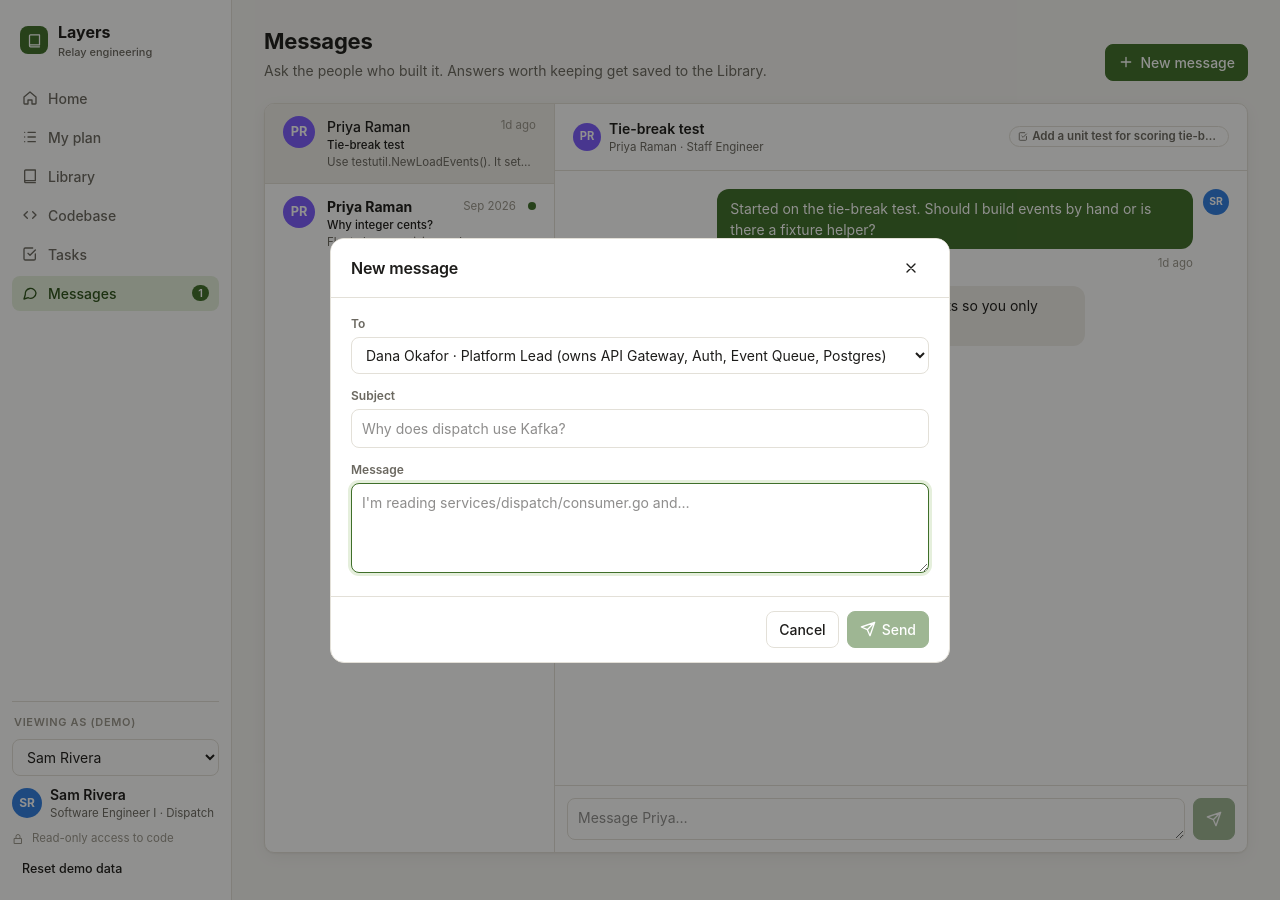
Scenario: Messages › ?to= dialog closes on cancel and clears the URL
Step 1. Click the button "Cancel" → (802, 629), box [766,610,839,648]
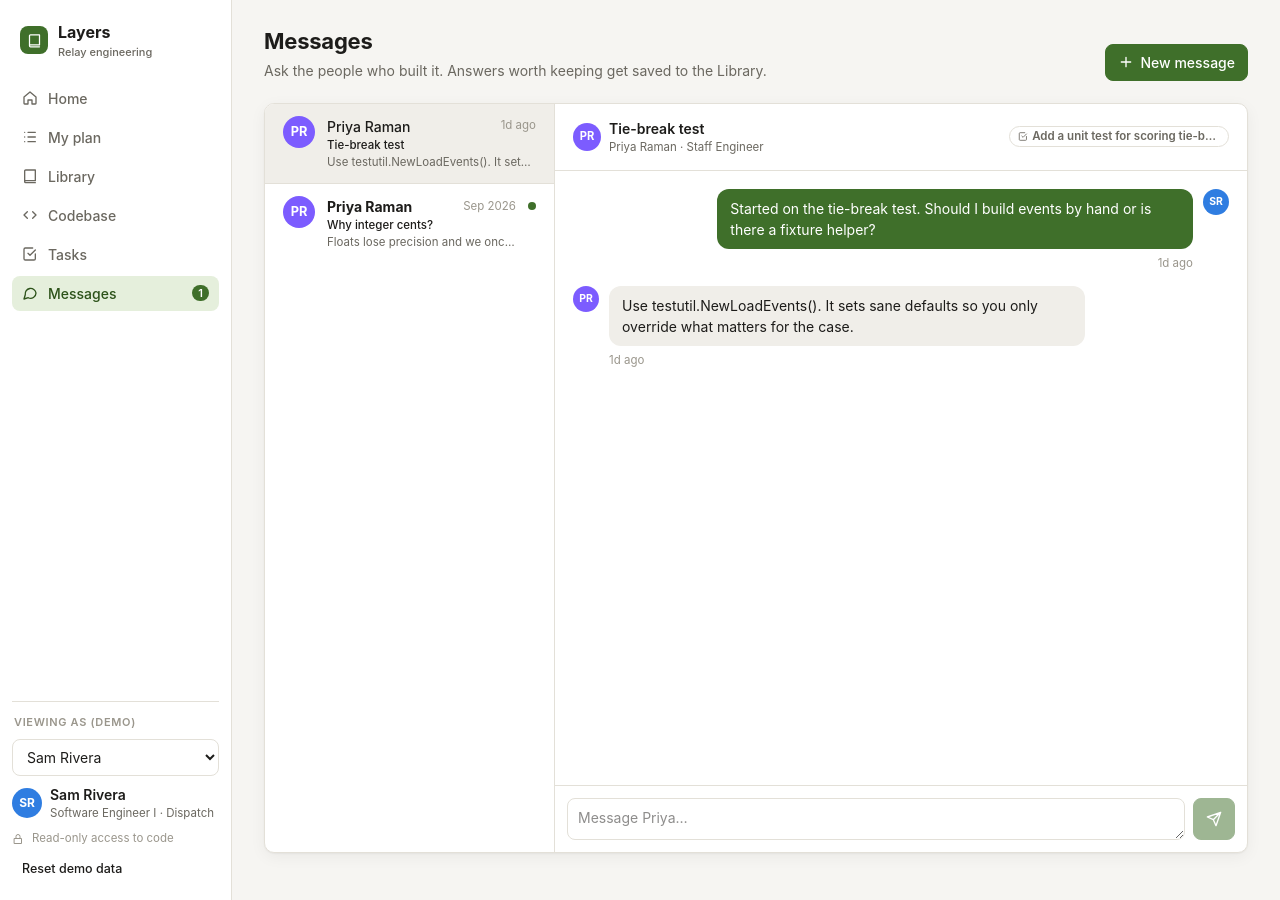
Result: the dialog is gone
